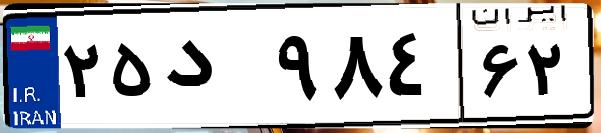2: (57, 26, 110, 100), (525, 38, 570, 115)
4: (385, 28, 445, 110)
5: (110, 28, 158, 98)
6: (475, 38, 525, 113)
8: (330, 28, 385, 110)
9: (270, 28, 330, 110)
د: (158, 20, 270, 120)
